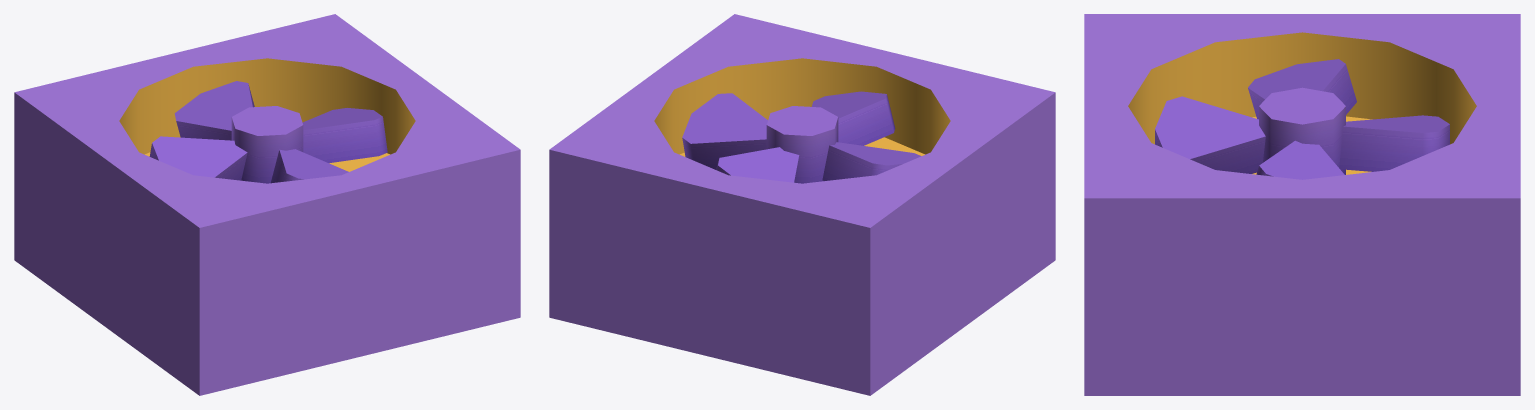
File: fan-four.glb
The picture shows the model from 3 angles, left to right: view 1: azimuth 30°, elevation 25°; view 2: azimuth 150°, elevation 25°; view 3: azimuth 270°, elevation 25°; orthographic projection. The views are drawn at different scales.
Visible parts, largest first — view 1: fan-four, fan; view 2: fan-four, fan; view 3: fan-four, fan.
Part boxes in pixels (x1=…): fan-four: x1=14, y1=14, x2=520, y2=395; fan: x1=149, y1=81, x2=387, y2=183; fan-four: x1=549, y1=14, x2=1055, y2=395; fan: x1=682, y1=91, x2=921, y2=183; fan-four: x1=1084, y1=14, x2=1520, y2=395; fan: x1=1155, y1=59, x2=1449, y2=179.
Size of the model in its own units: 1 by 0.5001 by 1.
1 material, 1 textured.
